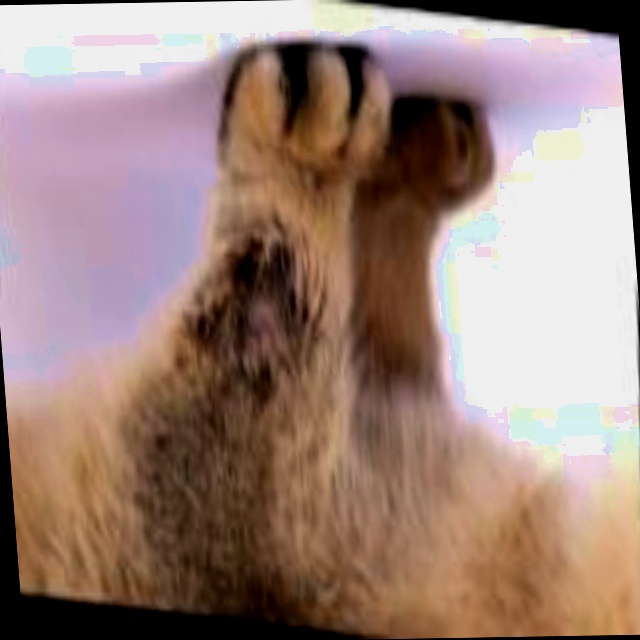ringworm: (221, 253, 288, 388)
